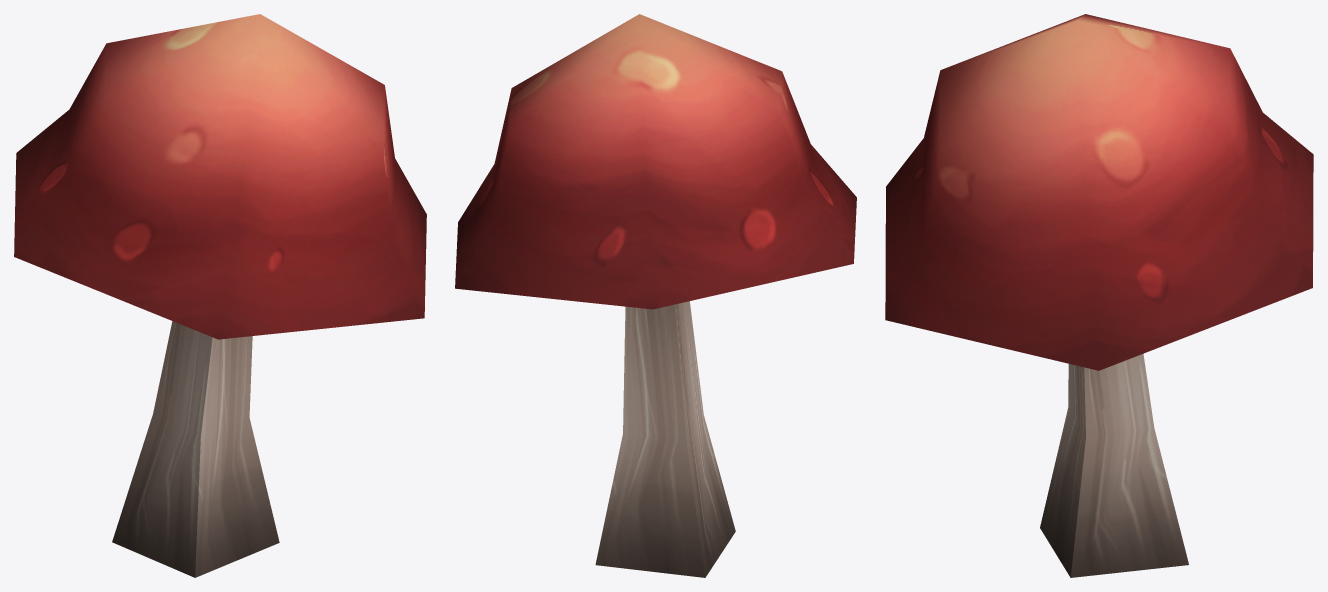
File: mushroom_01.fbx
3 views of the same model, side by side, from view 1: azimuth 30°, elevation 25°; view 2: azimuth 150°, elevation 25°; view 3: azimuth 270°, elevation 25° (orthographic). The views are drawn at different scales.
Visible parts, largest first — view 1: mushroom_01; view 2: mushroom_01; view 3: mushroom_01.
Boxes of the visible parts, x1,y1,x2,y2 form: mushroom_01: (14,14,426,577); mushroom_01: (455,14,856,577); mushroom_01: (885,14,1313,577).
Size of the model in its own units: 1.41 by 1.74 by 1.23.
